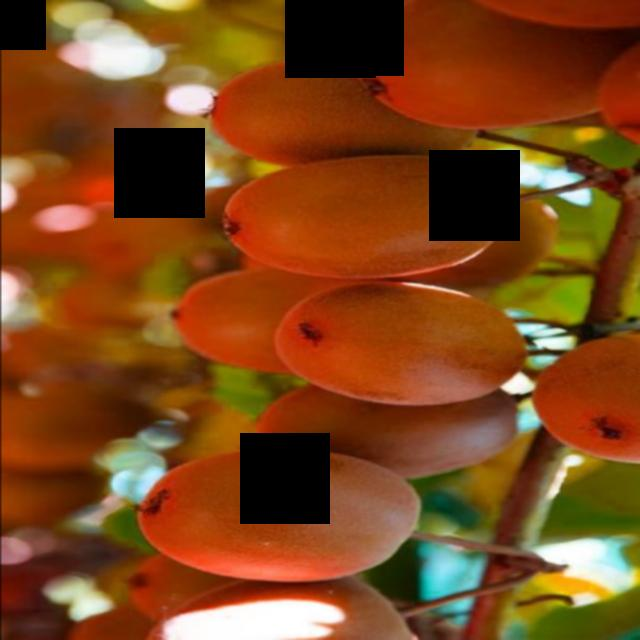kiwi: (129, 445, 430, 587), (206, 150, 504, 280), (264, 281, 534, 408), (347, 2, 605, 134), (198, 55, 483, 169), (244, 383, 521, 492), (163, 265, 355, 379), (396, 185, 564, 301), (134, 579, 435, 640), (521, 327, 640, 473), (121, 545, 257, 623), (590, 40, 640, 164)
